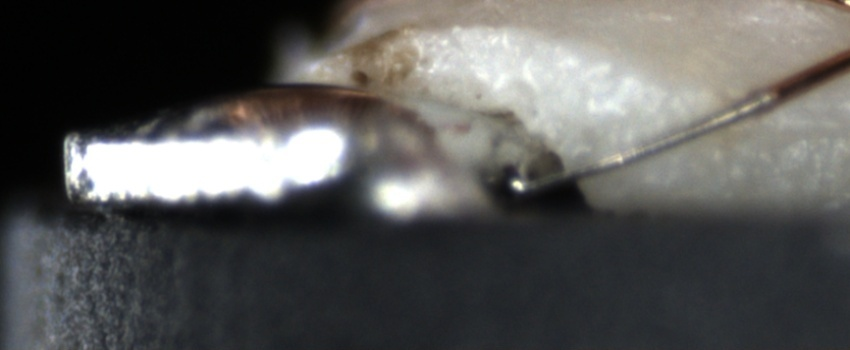DL: (729, 98, 849, 155)
TS: (514, 90, 775, 196)
